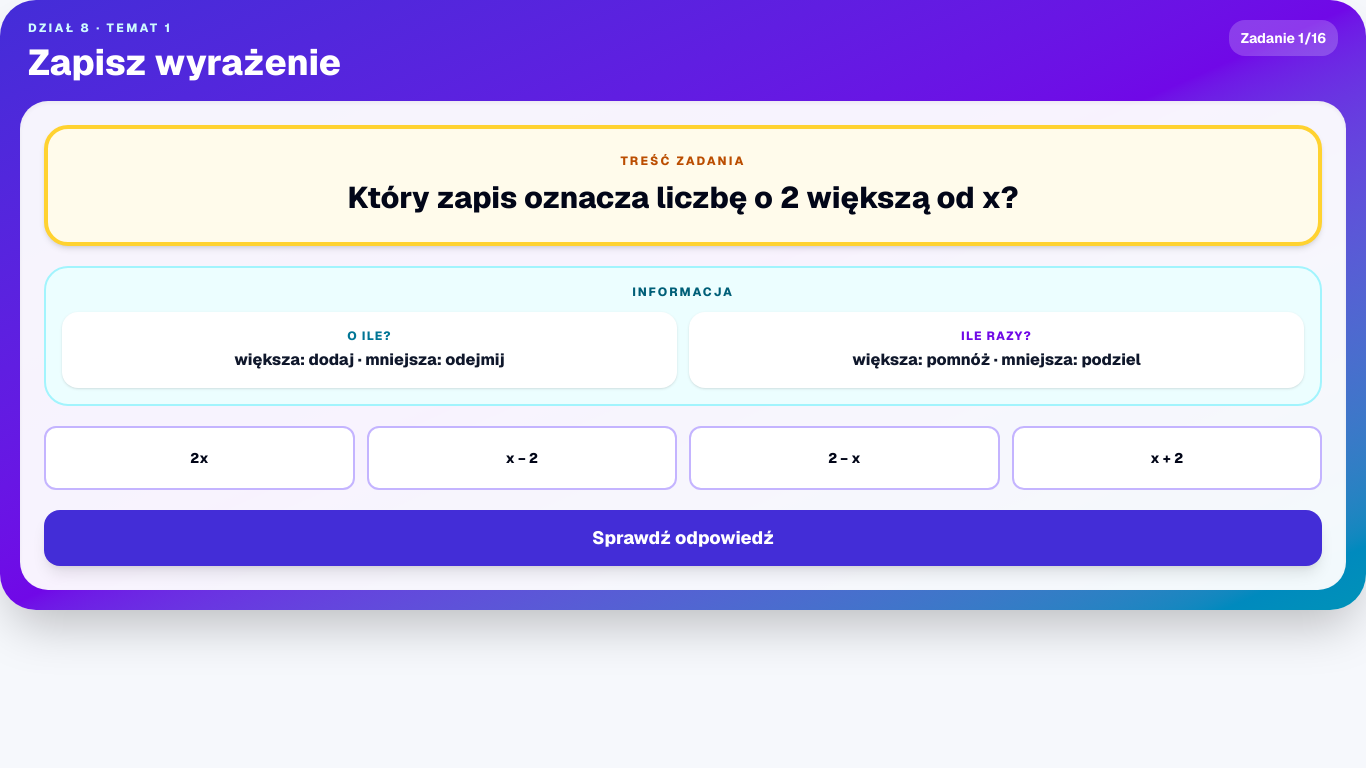
Test case: AlgebraLessonLab › po odpowiedzi bez punktu pokazuje obowiązkowy neutralny feedback
Click the button "x − 2" at (522, 458), box [366, 426, 677, 490]
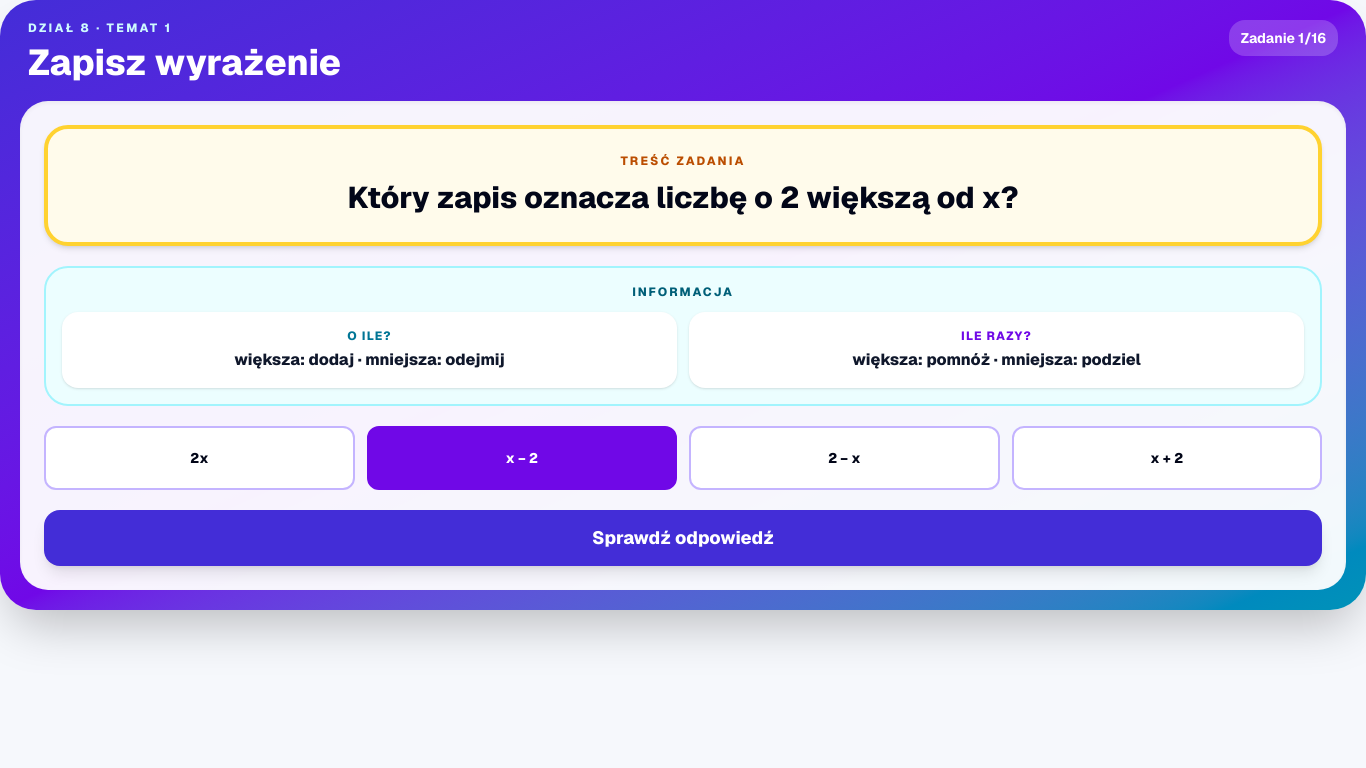
Click the button "Sprawdź odpowiedź" at (683, 538), box [44, 510, 1322, 566]
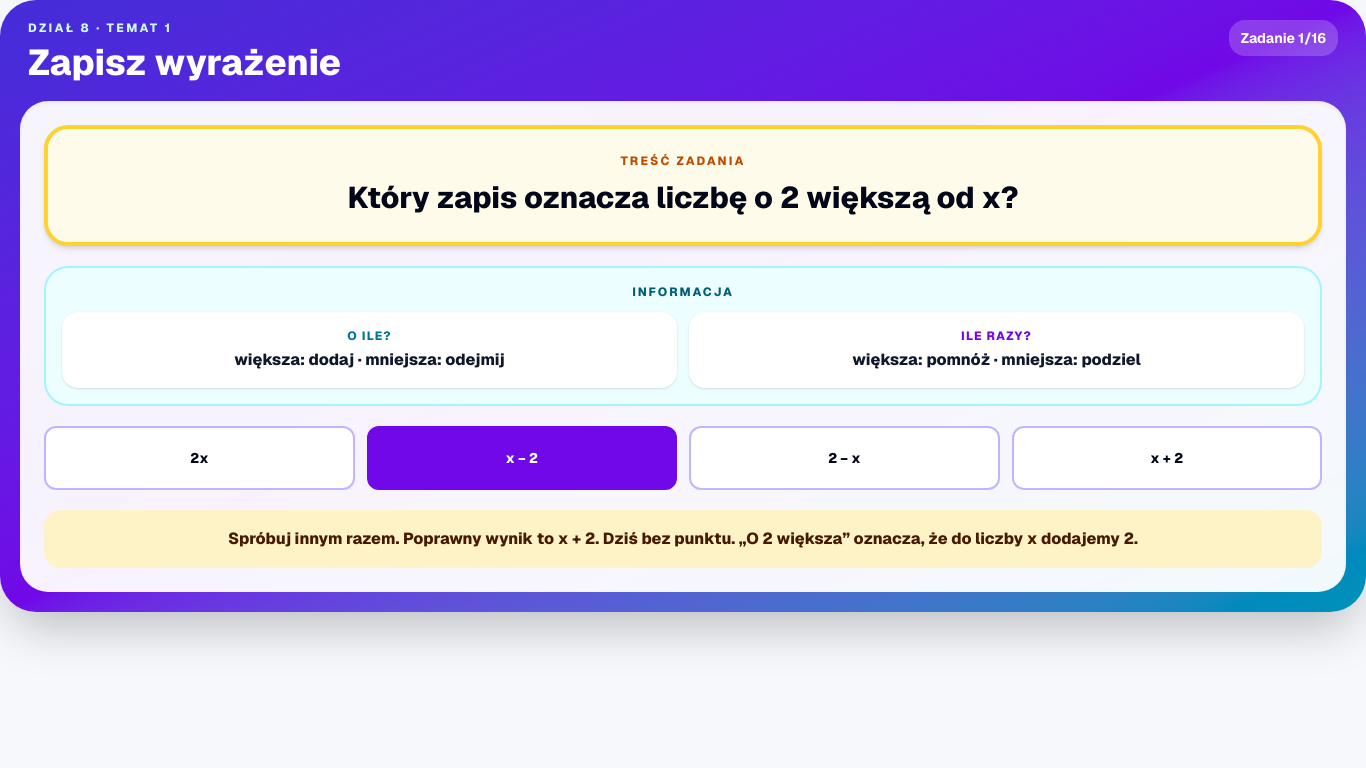
Now the message shows "Spróbuj innym razem. Poprawny wynik to x + 2. Dziś bez punktu.", box [228, 528, 1138, 549]
